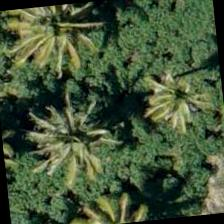Kelapa_Sawit: (21, 87, 120, 186), (127, 54, 223, 154), (8, 1, 104, 72)
